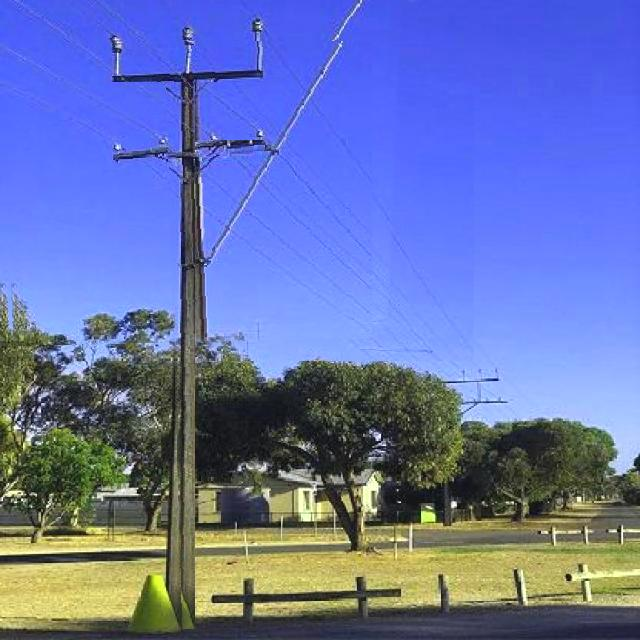crossarm: (103, 55, 266, 82), (113, 140, 265, 163)
pole: (178, 81, 195, 629)
wire: (9, 0, 392, 331), (0, 42, 372, 330), (232, 82, 466, 361), (231, 0, 383, 224), (270, 159, 408, 329), (159, 2, 187, 29)
